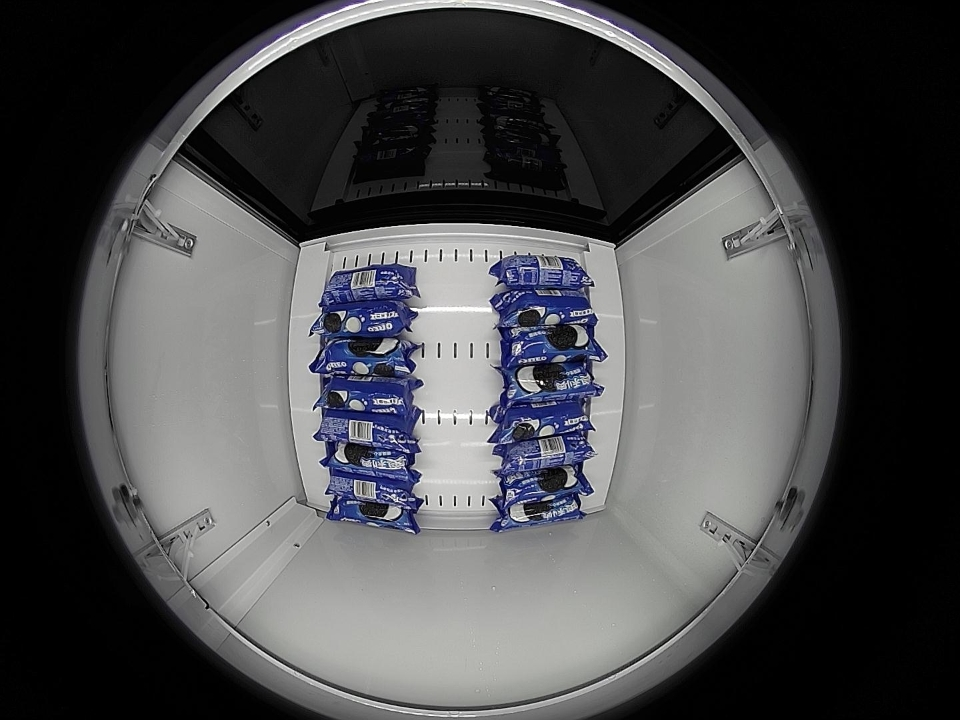aoliao: (502, 362, 601, 402), (311, 337, 408, 377), (503, 325, 600, 364), (317, 376, 413, 414), (318, 265, 414, 302), (314, 413, 412, 448), (316, 301, 413, 336), (491, 253, 585, 288), (498, 293, 601, 324), (497, 435, 595, 467), (332, 497, 419, 533), (495, 464, 590, 496), (497, 497, 591, 529), (503, 404, 598, 435), (322, 442, 413, 473), (326, 475, 419, 501)
